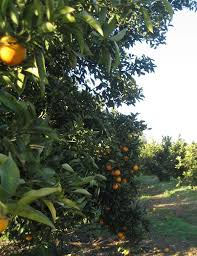orange: (1, 32, 27, 67), (122, 145, 131, 153)
